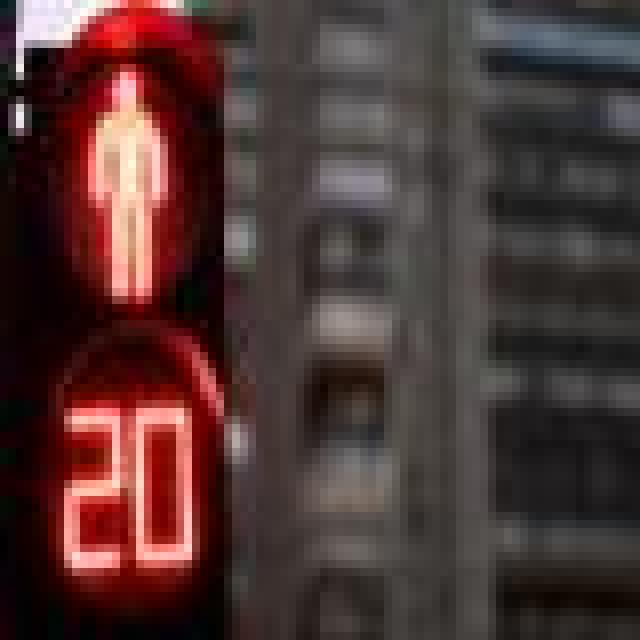redlight: (1, 7, 235, 630)
